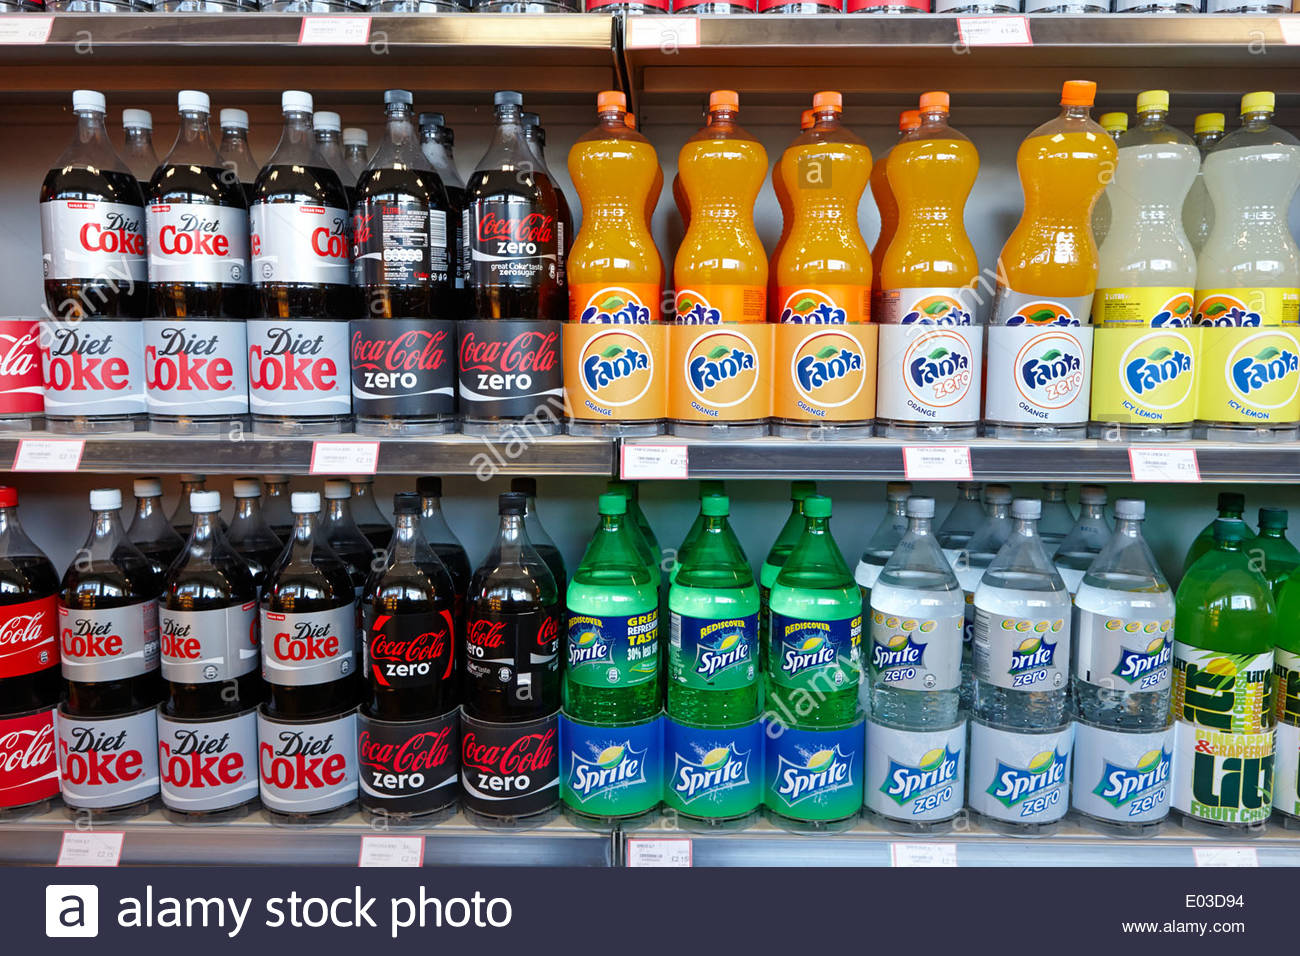fanta: (778, 104, 874, 443), (887, 110, 985, 427), (569, 110, 668, 423), (681, 101, 775, 420), (1023, 110, 1088, 434)
